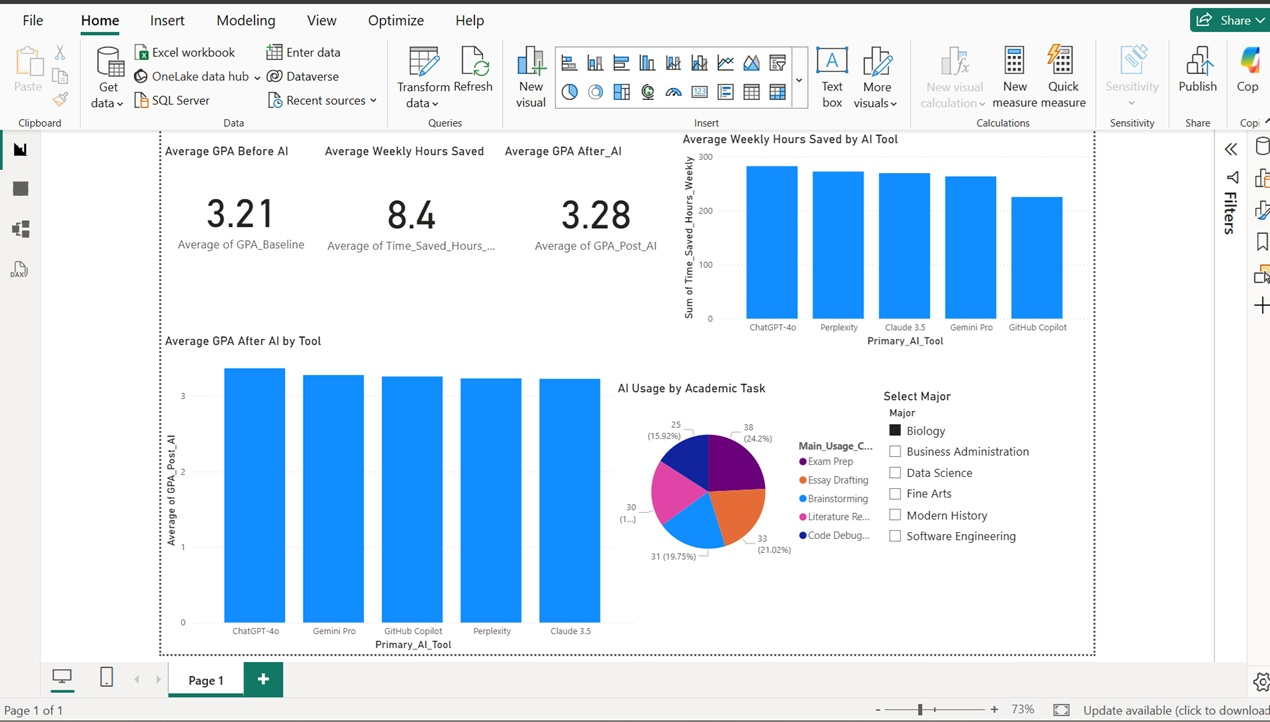

Layout of this report page (visuals, bound fields, positions):
{"tool":"powerbi","page":{"name":"Page 1","canvas":[1280,720],"ordinal":0},"visuals":[{"type":"clusteredColumnChart","title":"Average GPA After AI by Tool","fields":{"Category":["AI_Impact_Student_Life_2026.Primary_AI_Tool"],"Y":["Avg(AI_Impact_Student_Life_2026.GPA_Post_AI)"]},"box":[0,280.4,653.7,439.4],"z":1},{"type":"card","title":"Average  GPA After_AI","fields":{"Values":["Avg(AI_Impact_Student_Life_2026.GPA_Post_AI)"]},"box":[466.2,18.9,259.9,181.1],"z":4},{"type":"card","title":"Average GPA Before AI","fields":{"Values":["Avg(AI_Impact_Student_Life_2026.GPA_Baseline)"]},"box":[0,18.9,218.9,178],"z":5},{"type":"card","title":"Average Weekly Hours Saved","fields":{"Values":["Avg(AI_Impact_Student_Life_2026.Time_Saved_Hours_Weekly)"]},"box":[218.9,18.9,247.3,181.1],"z":6},{"type":"clusteredColumnChart","title":"Average Weekly Hours Saved by AI Tool","fields":{"Category":["AI_Impact_Student_Life_2026.Primary_AI_Tool"],"Y":["Sum(AI_Impact_Student_Life_2026.Time_Saved_Hours_Weekly)"]},"box":[710.4,3.2,570.2,299.3],"z":7},{"type":"pieChart","title":"AI Usage by Academic Task","fields":{"Category":["AI_Impact_Student_Life_2026.Main_Usage_Case"],"Y":["CountNonNull(AI_Impact_Student_Life_2026.Student_ID)"]},"box":[622.2,344.9,365.4,285.1],"z":8},{"type":"slicer","title":"Select Major","fields":{"Values":["AI_Impact_Student_Life_2026.Major"]},"box":[987,356,293,346.5],"z":9}]}

Visuals, with their boxes on the page's 1280x720 design canvas (x1, y1, x2, y2). These are canvas units, not pixel positions in the 1270x722 screenshot, which may show the page scaled, cropped or inside an application window:
"Average GPA After AI by Tool" clusteredColumnChart: [0, 280, 654, 720]
"Average  GPA After_AI" card: [466, 19, 726, 200]
"Average GPA Before AI" card: [0, 19, 219, 197]
"Average Weekly Hours Saved" card: [219, 19, 466, 200]
"Average Weekly Hours Saved by AI Tool" clusteredColumnChart: [710, 3, 1281, 302]
"AI Usage by Academic Task" pieChart: [622, 345, 988, 630]
"Select Major" slicer: [987, 356, 1280, 702]
